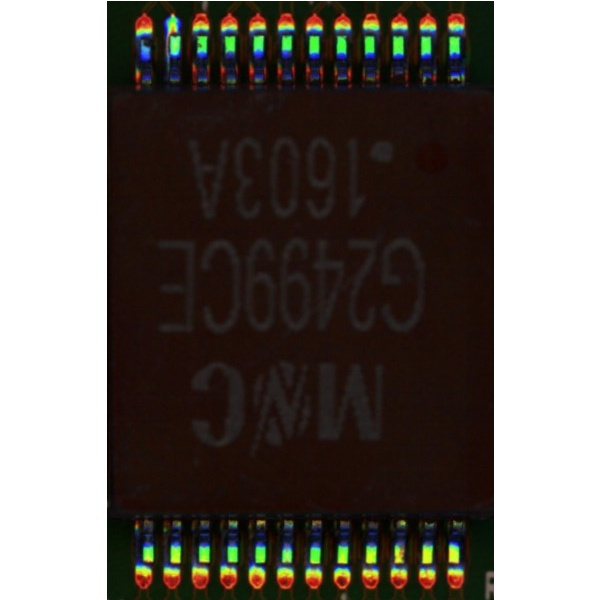Bad_podu: (170, 26, 178, 41)
Bad_qiaojiao: (165, 35, 171, 72)
